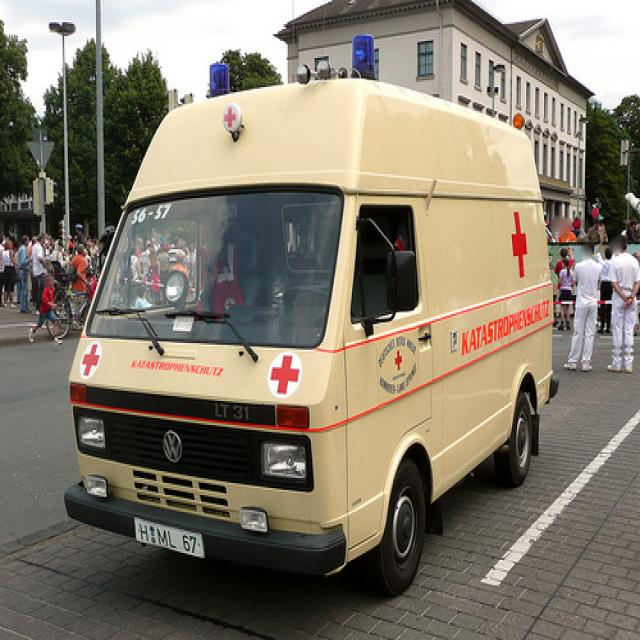emergency-vehicle: (68, 84, 550, 588)
